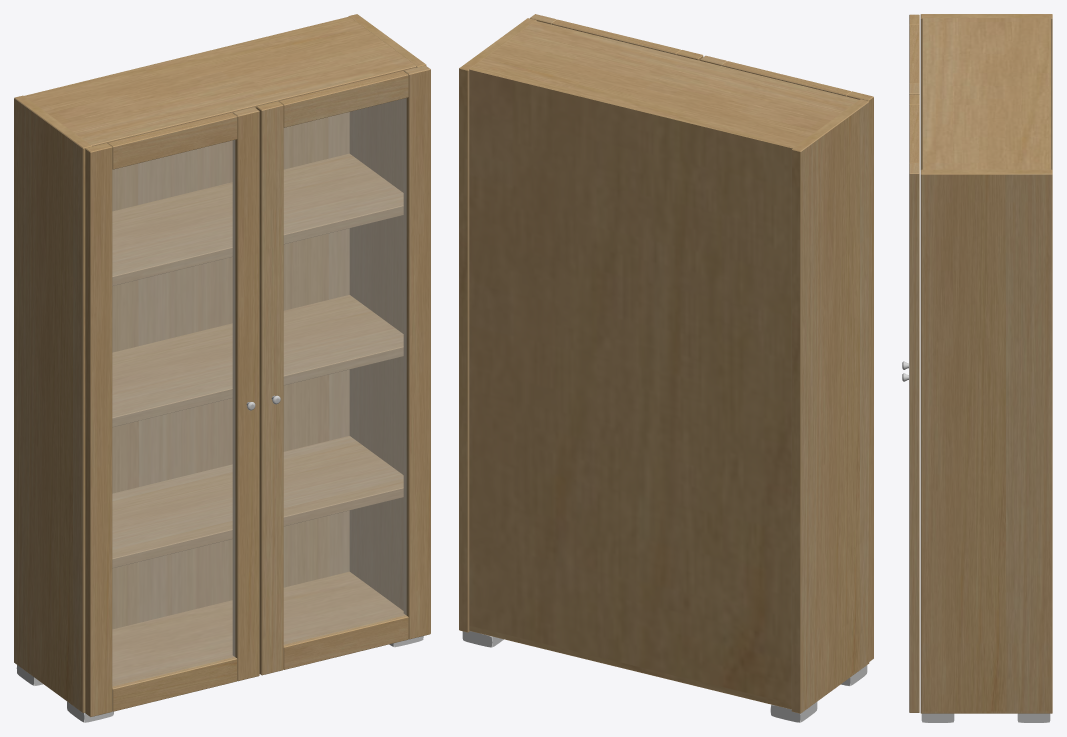
Rendered from sh_blend_swap_cc_0_bookcase.glb.
The picture shows the model from 3 angles, left to right: view 1: azimuth 30°, elevation 25°; view 2: azimuth 150°, elevation 25°; view 3: azimuth 270°, elevation 25°; orthographic projection. The views are drawn at different scales.
Size of the model in its own units: 0.919 by 1.47 by 0.365.
4 materials, 1 textured.
